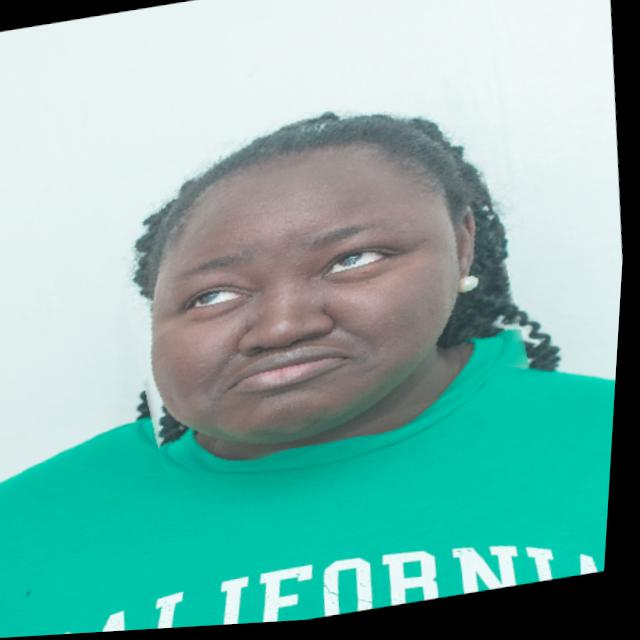sad: (94, 78, 541, 486)
